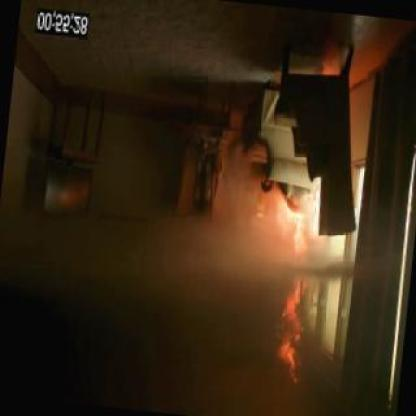Fire: (268, 274, 307, 389), (271, 195, 313, 263)
